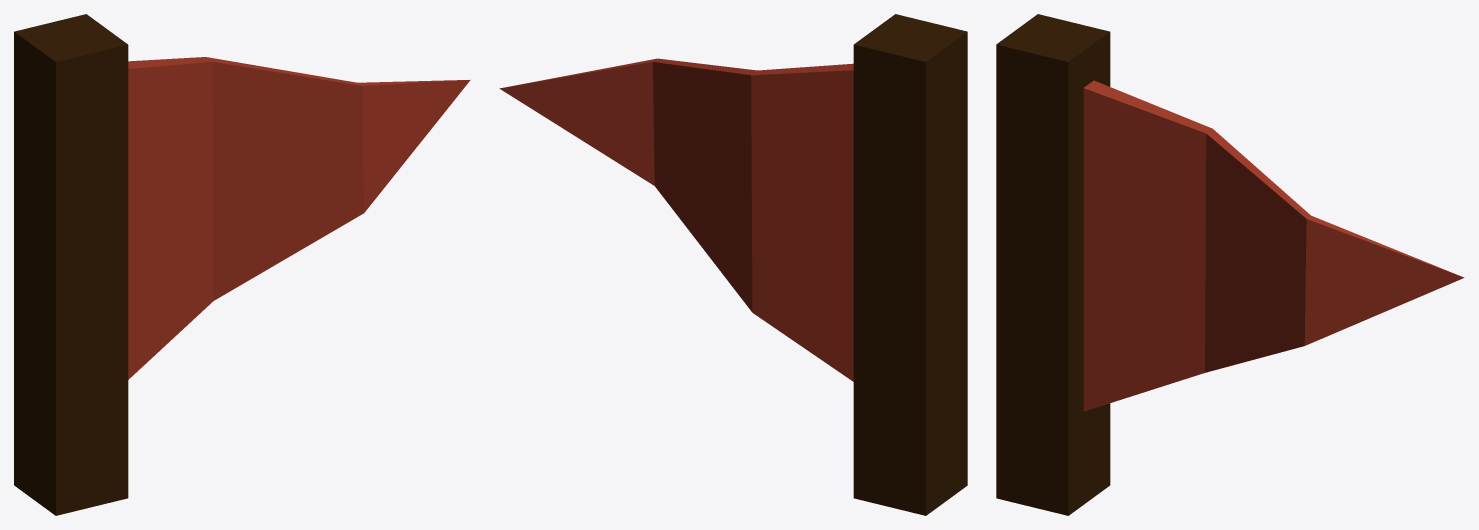
The model's file is red_flag.glb.
3 renders of one model, left to right at view 1: azimuth 30°, elevation 25°; view 2: azimuth 150°, elevation 25°; view 3: azimuth 330°, elevation 25°, orthographic.
Parts seen in each view (by area): view 1: red_flag; view 2: red_flag; view 3: red_flag.
Boxes of the visible parts, x1=… form: red_flag: x1=14, y1=14, x2=470, y2=515; red_flag: x1=499, y1=14, x2=967, y2=515; red_flag: x1=996, y1=14, x2=1464, y2=515.
Size of the model in its own units: 0.6112 by 0.6 by 0.1.
1 material, 1 textured.
